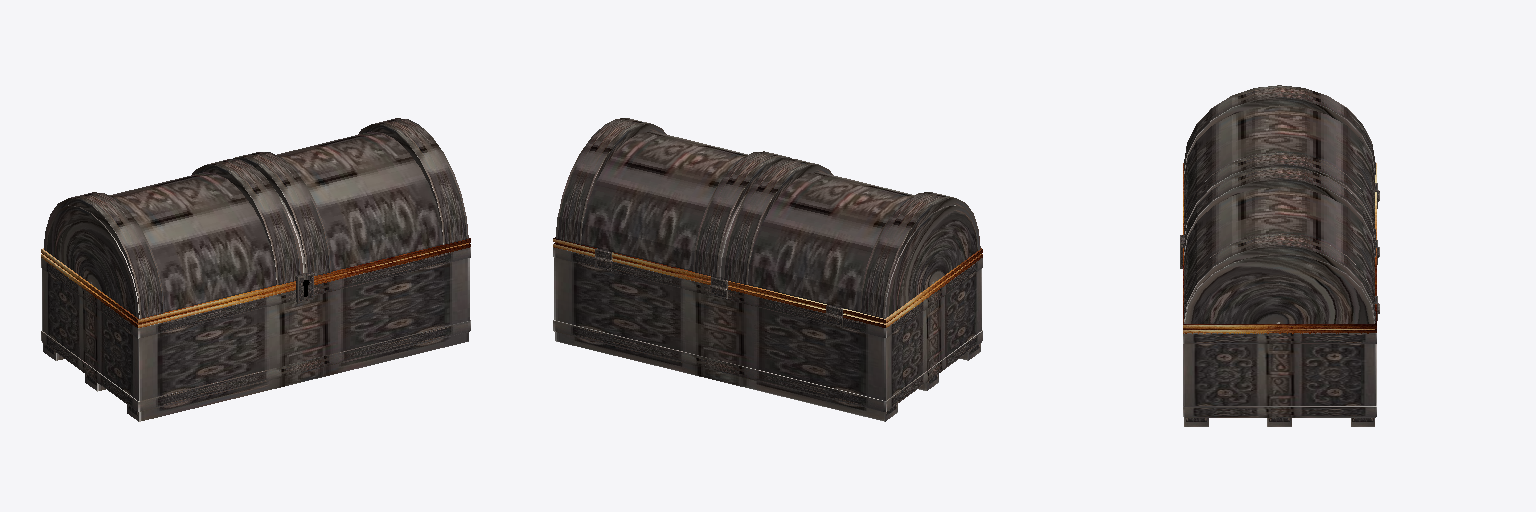
The picture shows the model from 3 angles: view 1: azimuth 30°, elevation 25°; view 2: azimuth 150°, elevation 25°; view 3: azimuth 270°, elevation 25°; orthographic projection.
Visible parts, largest first — view 1: Box, Chest_Lid_Left, Chest_Lid_Right, Rusty_Metal_Rim_Bottom1, Rusty_Metal_Rim_Bottom2, Cylinder, Cylinder1, Cylinder3, Cylinder2, Rusty_Metal_Rim_Bottom3, Rusty_Metal_Rim_Top, Rusty_Metal_Rim_Bottom; view 2: Box, Chest_Lid_Left, Chest_Lid_Right, Rusty_Metal_Rim_Bottom1, Cylinder, Cylinder1, Cylinder3, Rusty_Metal_Rim_Bottom2, Cylinder2, Rusty_Metal_Rim_Bottom4, Rusty_Metal_Rim_Top, Rusty_Metal_Rim_Bottom; view 3: Chest_Lid_Right, Box, Chest_Lid_Left, Cylinder1, Cylinder, Cylinder2, Cylinder3, Rusty_Metal_Rim_Bottom1, Rusty_Metal_Rim_Bottom2, Rusty_Metal_Rim_Top, Rusty_Metal_Rim_Bottom.
Part boxes in pixels (x1,y1,x2,y2): Box: (42, 258, 469, 412); Chest_Lid_Left: (44, 172, 302, 318); Chest_Lid_Right: (272, 131, 468, 272); Rusty_Metal_Rim_Bottom1: (41, 320, 470, 411); Rusty_Metal_Rim_Bottom2: (41, 247, 470, 338); Cylinder: (46, 192, 164, 318); Cylinder1: (358, 118, 467, 244); Cylinder3: (192, 159, 300, 284); Cylinder2: (233, 152, 330, 275); Rusty_Metal_Rim_Bottom3: (127, 332, 468, 421); Rusty_Metal_Rim_Top: (41, 238, 470, 323); Rusty_Metal_Rim_Bottom: (41, 243, 470, 327); Box: (554, 258, 981, 411); Chest_Lid_Left: (721, 172, 980, 318); Chest_Lid_Right: (556, 131, 752, 277); Rusty_Metal_Rim_Bottom1: (553, 320, 982, 411); Cylinder: (860, 192, 978, 318); Cylinder1: (556, 118, 666, 244); Cylinder3: (723, 159, 832, 284); Rusty_Metal_Rim_Bottom2: (553, 247, 982, 337); Cylinder2: (693, 151, 791, 277); Rusty_Metal_Rim_Bottom4: (555, 332, 897, 421); Rusty_Metal_Rim_Top: (553, 237, 982, 322); Rusty_Metal_Rim_Bottom: (553, 243, 982, 327); Chest_Lid_Right: (1184, 187, 1374, 323); Box: (1184, 344, 1375, 417); Chest_Lid_Left: (1184, 105, 1374, 224); Cylinder1: (1184, 233, 1375, 323); Cylinder: (1184, 85, 1375, 174); Cylinder2: (1184, 167, 1375, 256); Cylinder3: (1184, 152, 1375, 241); Rusty_Metal_Rim_Bottom1: (1183, 344, 1376, 416); Rusty_Metal_Rim_Bottom2: (1183, 333, 1376, 343); Rusty_Metal_Rim_Top: (1183, 163, 1376, 328); Rusty_Metal_Rim_Bottom: (1183, 329, 1376, 333).
Size of the model in its own units: 2.02 by 1.05 by 1.05.
6 materials, 2 textured.